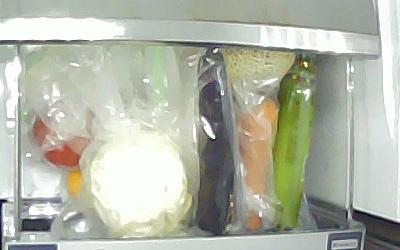cabbage_vinyl: (89, 130, 193, 237)
carrot_vinyl: (233, 94, 278, 230)
eggplant_vinyl: (193, 47, 236, 235)
melon: (216, 46, 296, 87)
tomato_vinyl: (31, 107, 94, 166)
zucchini: (274, 73, 313, 231)
